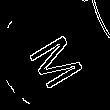M_NE: (22, 23, 88, 87)
